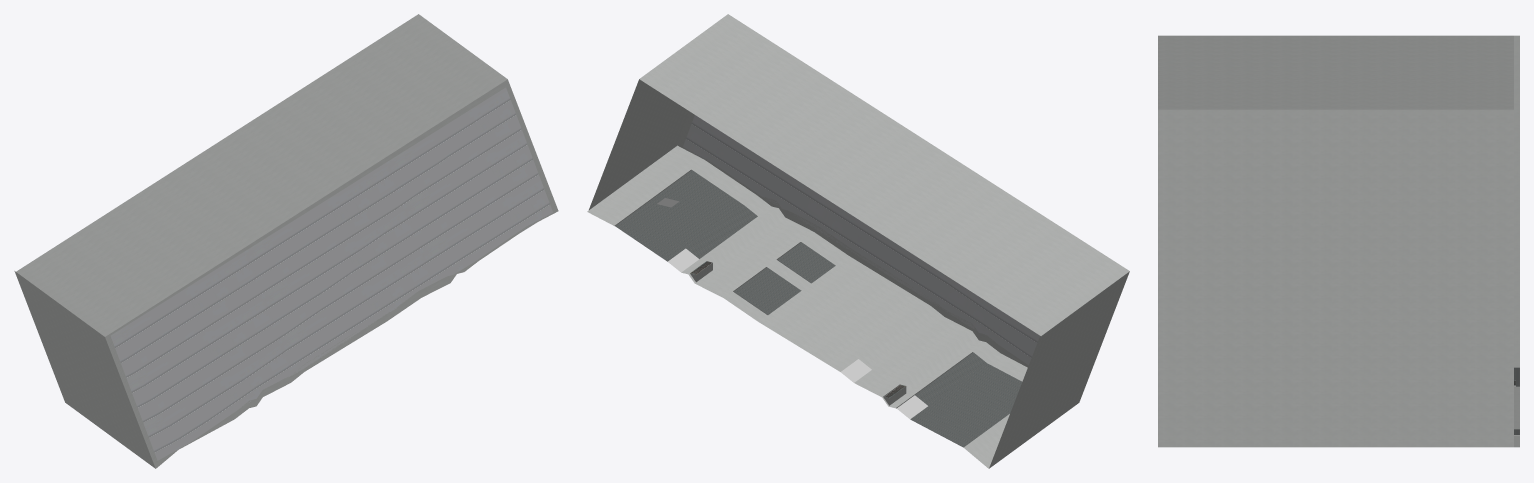
File: Kpst8_2_1-origo.obj
The picture shows the model from 3 angles, left to right: view 1: azimuth 30°, elevation 25°; view 2: azimuth 150°, elevation 25°; view 3: azimuth 270°, elevation 25°; orthographic projection. The views are drawn at different scales.
Parts seen in each view (by area): view 1: polySurface1; view 2: polySurface1; view 3: polySurface1.
Boxes of the visible parts, x1,y1,x2,y2 form: polySurface1: (14,14,558,468); polySurface1: (587,14,1129,468); polySurface1: (1158,35,1519,447).
Bounding box in the file's own units: 31.25 × 20 × 10.82.
